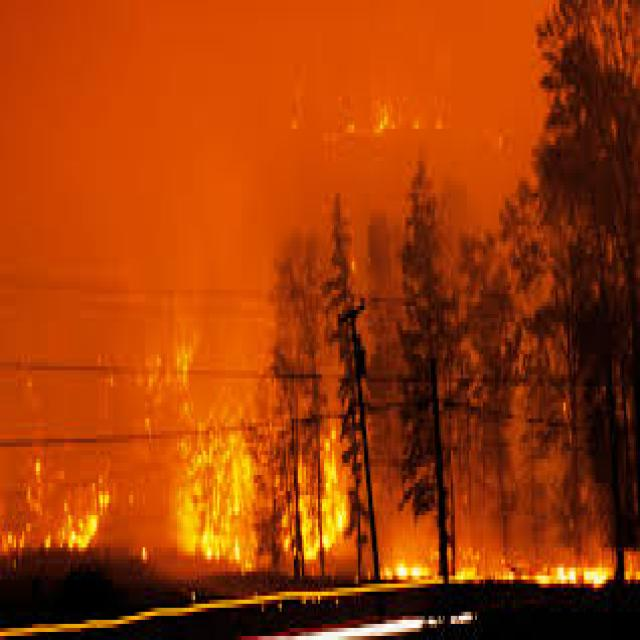Fire: (174, 431, 250, 578), (305, 463, 346, 570)
